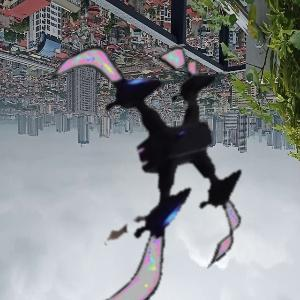drone: (20, 23, 284, 287)
